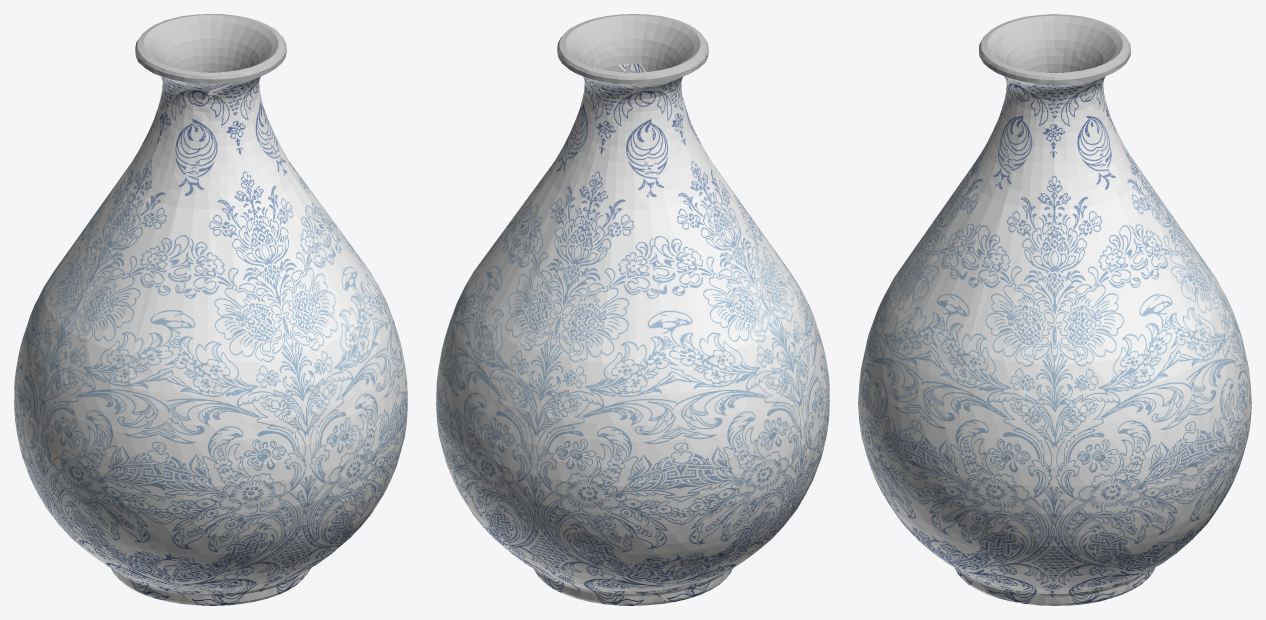
The model's file is Blue_Model.fbx.
3 renders of one model, left to right at view 1: azimuth 30°, elevation 25°; view 2: azimuth 150°, elevation 25°; view 3: azimuth 270°, elevation 25°, orthographic.
Parts seen in each view (by area): view 1: mesh_rep_0_ori_repair_quad.obj, 对象001; view 2: mesh_rep_0_ori_repair_quad.obj, 对象001; view 3: mesh_rep_0_ori_repair_quad.obj, 对象001.
Boxes of the visible parts, bbox=[...] form: mesh_rep_0_ori_repair_quad.obj: bbox=[14, 74, 407, 605]; 对象001: bbox=[135, 14, 286, 83]; mesh_rep_0_ori_repair_quad.obj: bbox=[436, 63, 829, 605]; 对象001: bbox=[557, 14, 708, 84]; mesh_rep_0_ori_repair_quad.obj: bbox=[858, 71, 1251, 605]; 对象001: bbox=[979, 14, 1130, 84].
Size of the model in its own units: 130 by 190 by 130.
